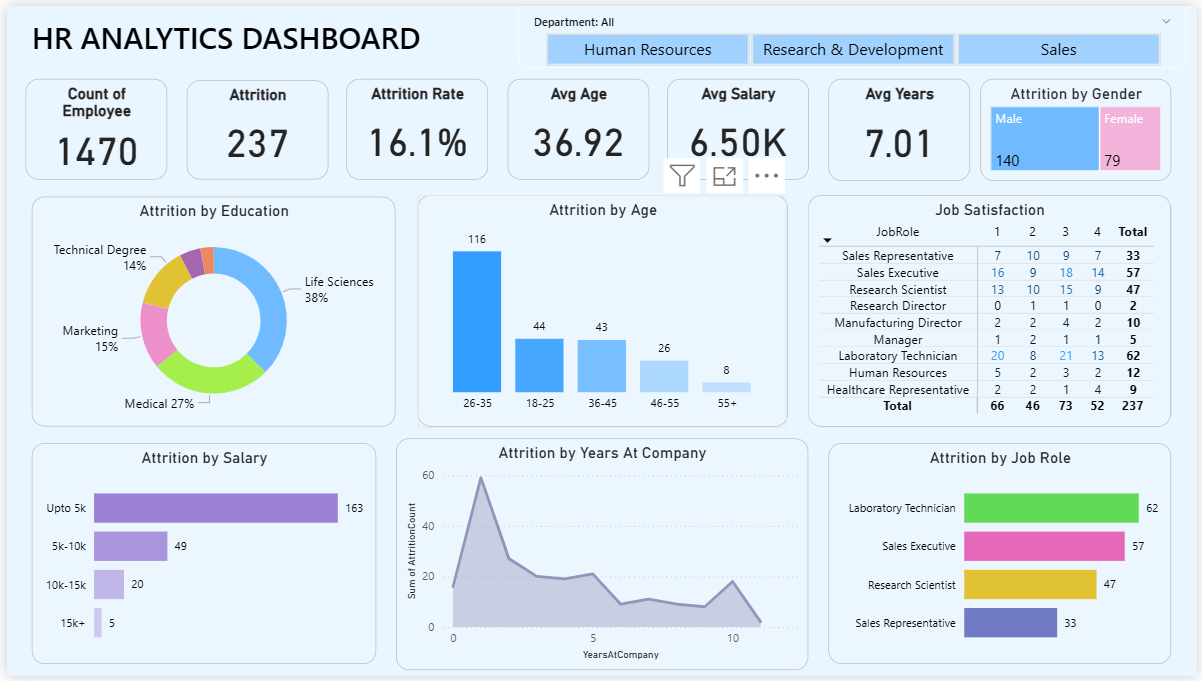

This screenshot's page, from the dashboard's own definition file:
{"tool":"powerbi","page":{"name":"Page 1","canvas":[1280,720],"ordinal":0},"visuals":[{"type":"card","title":"Count of Employee","fields":{"Values":["CountNonNull(HR_Analytics.EmpID)"]},"box":[20.7,78.8,152,108.5],"z":0},{"type":"card","title":"Attrition","fields":{"Values":["Sum(HR_Analytics.AttritionCount)"]},"box":[193.1,79.7,152,106.7],"z":1000},{"type":"card","title":"Attrition Rate","fields":{"Values":["HR_Analytics.AttritionRate"]},"box":[365.5,78.9,152,108.3],"z":2000},{"type":"card","title":"Avg Age","fields":{"Values":["Avg(HR_Analytics.Age)"]},"box":[538,78.9,152,108.3],"z":3000},{"type":"card","title":"Avg Salary","fields":{"Values":["Avg(HR_Analytics.MonthlyIncome)"]},"box":[710.4,78.9,152,108.3],"z":4000},{"type":"card","title":"Avg Years","fields":{"Values":["Avg(HR_Analytics.YearsAtCompany)"]},"box":[882.8,78.1,152,109.9],"z":5000},{"type":"donutChart","title":"Attrition by Education","fields":{"Category":["HR_Analytics.EducationField"],"Y":["Sum(HR_Analytics.AttritionCount)"]},"box":[27.5,205.3,391.3,247.4],"z":6000},{"type":"columnChart","title":"Attrition by Age","fields":{"Category":["HR_Analytics.AgeGroup"],"Y":["Sum(HR_Analytics.AttritionCount)"]},"box":[441.4,203.7,397.7,249],"z":7000},{"type":"pivotTable","title":"Job Satisfaction","fields":{"Rows":["HR_Analytics.JobRole"],"Columns":["HR_Analytics.JobSatisfaction"],"Values":["Sum(HR_Analytics.AttritionCount)"]},"box":[861.8,203.7,389.7,249],"z":8000},{"type":"barChart","title":"Attrition by Salary","fields":{"Category":["HR_Analytics.SalarySlab"],"Y":["Sum(HR_Analytics.AttritionCount)"]},"box":[27.5,470.5,370.3,237.7],"z":9000},{"type":"barChart","title":"Attrition by Job Role","fields":{"Y":["Sum(HR_Analytics.AttritionCount)"],"Category":["HR_Analytics.JobRole"]},"box":[882.8,470.5,368.6,237.7],"z":10000},{"type":"areaChart","title":"Attrition by Years At Company","fields":{"Y":["Sum(HR_Analytics.AttritionCount)"],"Category":["HR_Analytics.YearsAtCompany"]},"box":[418.8,465.7,443,249],"z":11000},{"type":"treemap","title":"Attrition by Gender","fields":{"Group":["HR_Analytics.Gender"],"Values":["Sum(HR_Analytics.AttritionCount)"]},"box":[1046.1,77.6,205.3,109.9],"z":12000},{"type":"slicer","fields":{"Values":["HR_Analytics.Department"]},"box":[549.7,0,717.9,66.3],"z":13000},{"type":"textbox","box":[21,6.5,451.1,61.4],"z":14000}]}

Visuals, with their boxes in screenshot pixels (x1, y1, x2, y2), scaled from the page's 1280x720 canvas onto the 1202x681 screenshot:
"Count of Employee" card: crop(19, 75, 162, 177)
"Attrition" card: crop(181, 75, 324, 176)
"Attrition Rate" card: crop(343, 75, 486, 177)
"Avg Age" card: crop(505, 75, 648, 177)
"Avg Salary" card: crop(667, 75, 810, 177)
"Avg Years" card: crop(829, 74, 972, 178)
"Attrition by Education" donutChart: crop(26, 194, 393, 428)
"Attrition by Age" columnChart: crop(415, 193, 788, 428)
"Job Satisfaction" pivotTable: crop(809, 193, 1175, 428)
"Attrition by Salary" barChart: crop(26, 445, 374, 670)
"Attrition by Job Role" barChart: crop(829, 445, 1175, 670)
"Attrition by Years At Company" areaChart: crop(393, 440, 809, 676)
"Attrition by Gender" treemap: crop(982, 73, 1175, 177)
slicer - HR_Analytics.Department: crop(516, 0, 1190, 63)
textbox: crop(20, 6, 443, 64)
